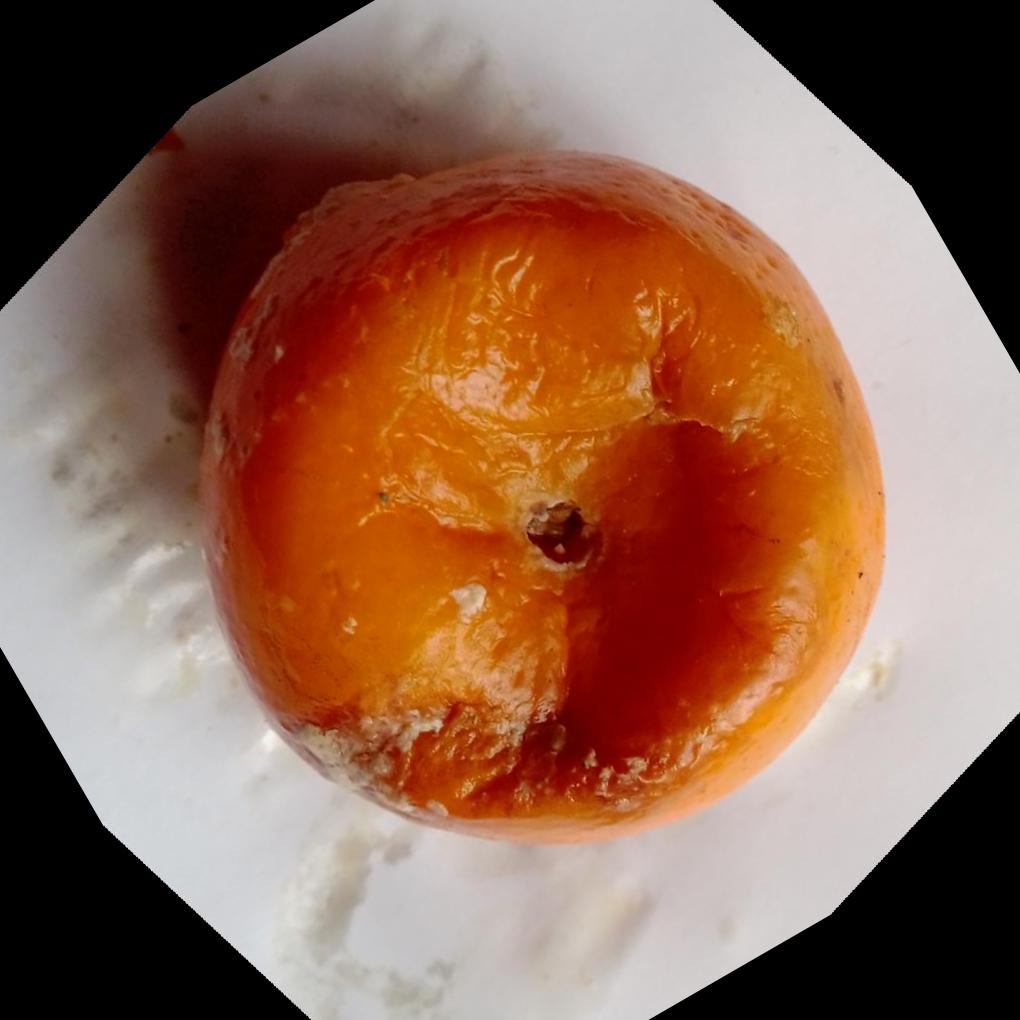FreshOrange: (196, 149, 890, 849)
